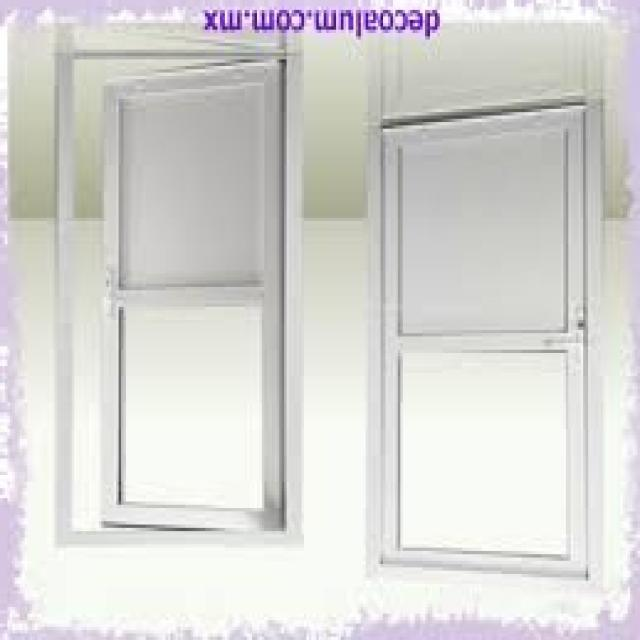door: (376, 102, 596, 587)
